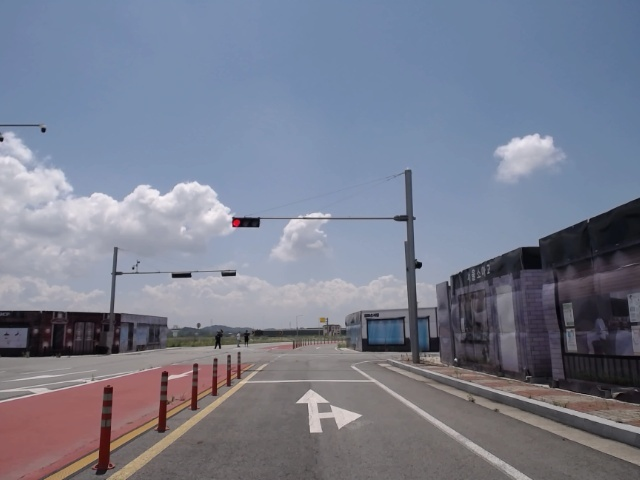red_3: (229, 217, 262, 228)
